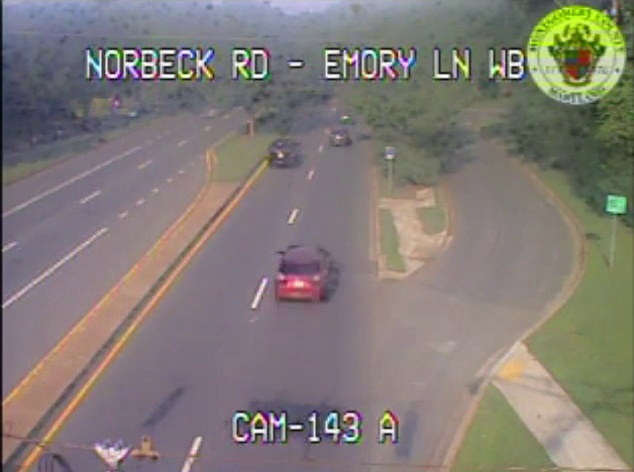car: (277, 247, 325, 302), (270, 140, 302, 167)
